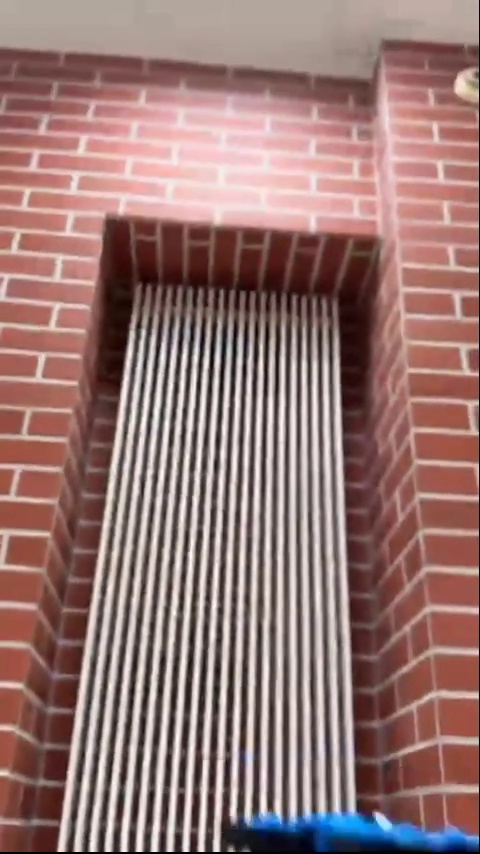drone: (216, 805, 480, 854)
